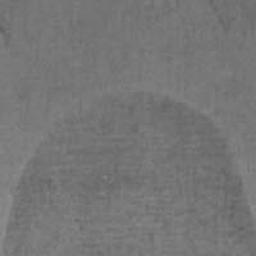Oil spot: (0, 90, 256, 256)
